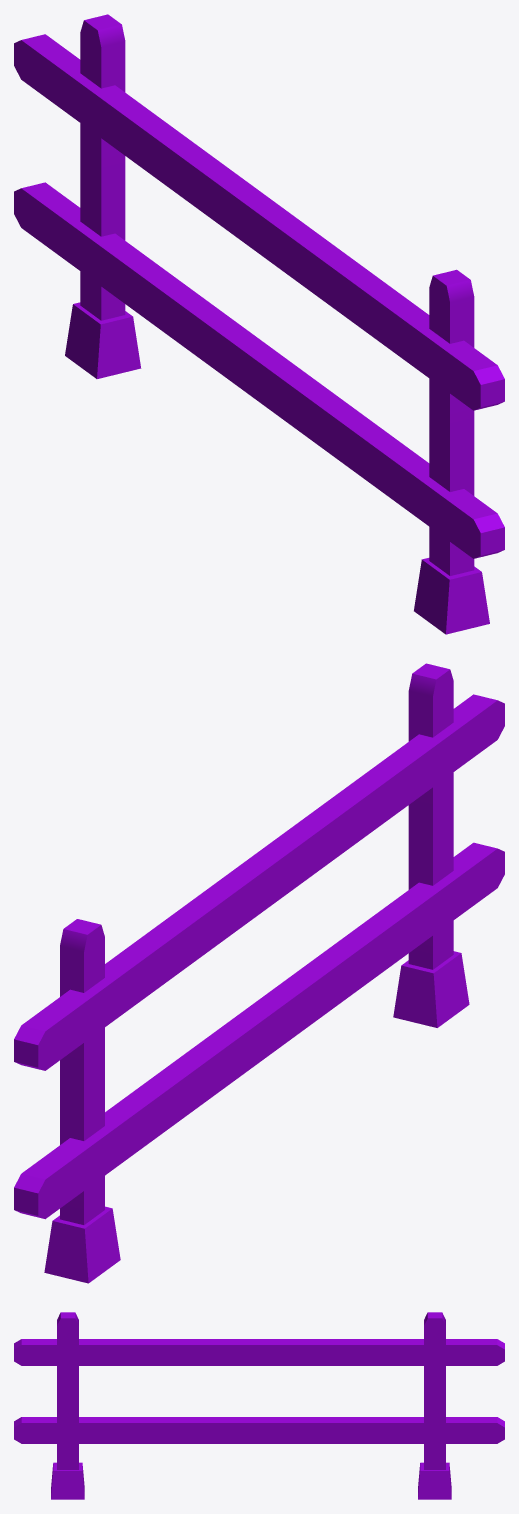
File: Fence_Grp.fbx
3 views of the same model, one above another, from view 1: azimuth 30°, elevation 25°; view 2: azimuth 150°, elevation 25°; view 3: azimuth 270°, elevation 25° (orthographic). The views are drawn at different scales.
Parts seen in each view (by area): view 1: Fence_Grp; view 2: Fence_Grp; view 3: Fence_Grp.
Part boxes in pixels (x1=…): Fence_Grp: x1=14, y1=14, x2=504, y2=634; Fence_Grp: x1=14, y1=663, x2=504, y2=1283; Fence_Grp: x1=14, y1=1312, x2=504, y2=1499.
Size of the model in its own units: 3.43 by 25.05 by 62.41.
